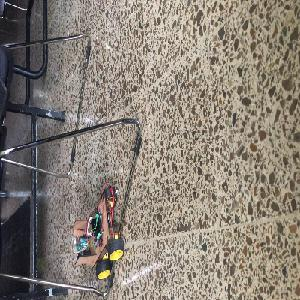Robot: (72, 186, 124, 280)
